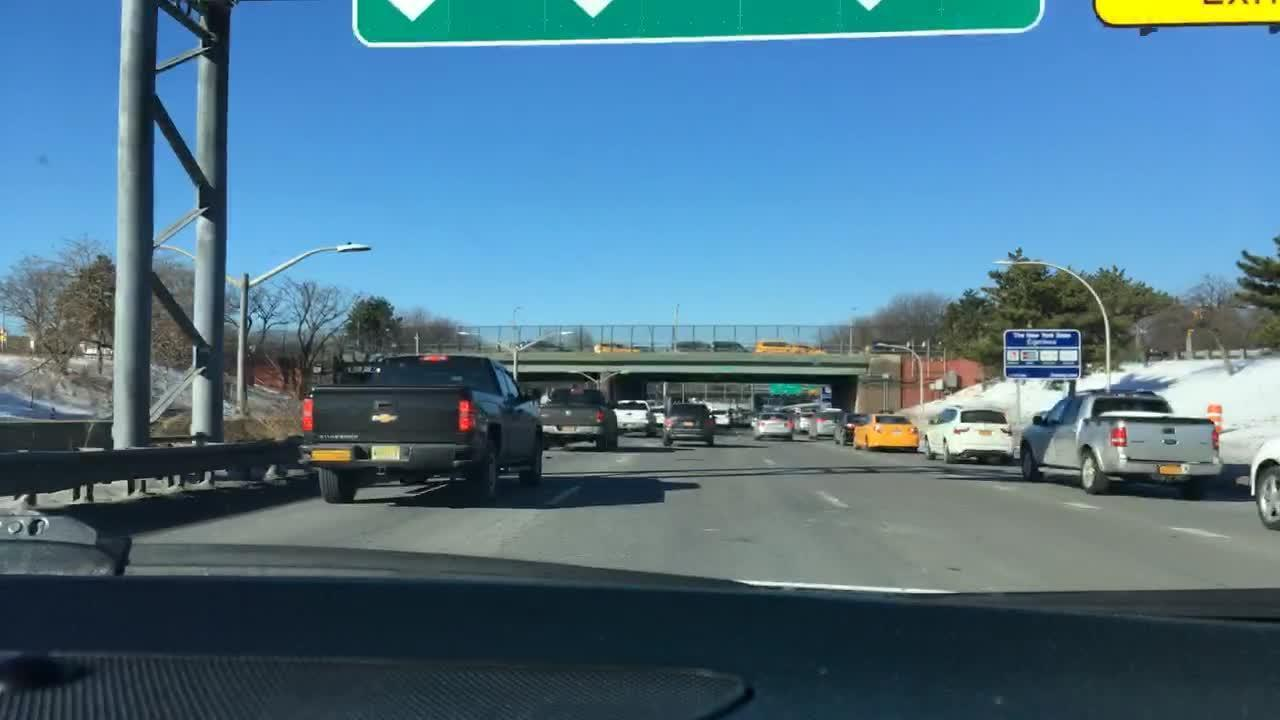chevrolet: (371, 410, 401, 427)
